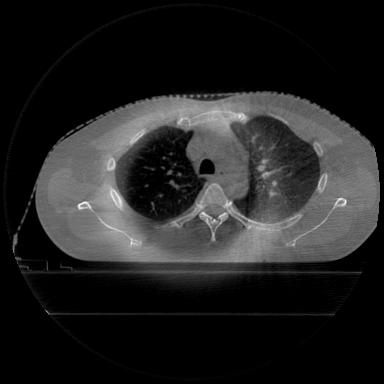body: (36, 92, 379, 262)
cord: (169, 183, 302, 242)
paru kanan: (116, 126, 206, 220)
paru kiri: (231, 116, 320, 222)
